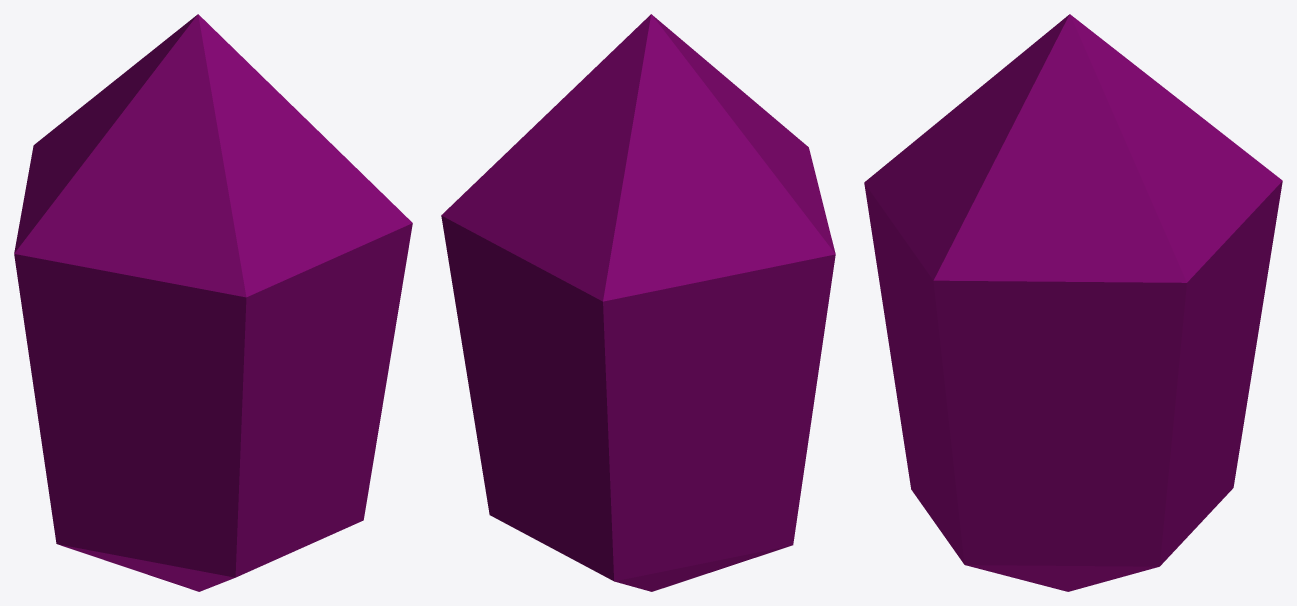
File: CrystalKey.fbx
3 renders of one model, left to right at view 1: azimuth 30°, elevation 25°; view 2: azimuth 150°, elevation 25°; view 3: azimuth 270°, elevation 25°, orthographic.
Visible parts, largest first — view 1: CrystalKey; view 2: CrystalKey; view 3: CrystalKey.
Boxes of the visible parts, x1,y1,x2,y2 form: CrystalKey: (14,14,412,591); CrystalKey: (441,14,835,591); CrystalKey: (864,14,1282,591).
Size of the model in its own units: 122 by 200 by 131.
